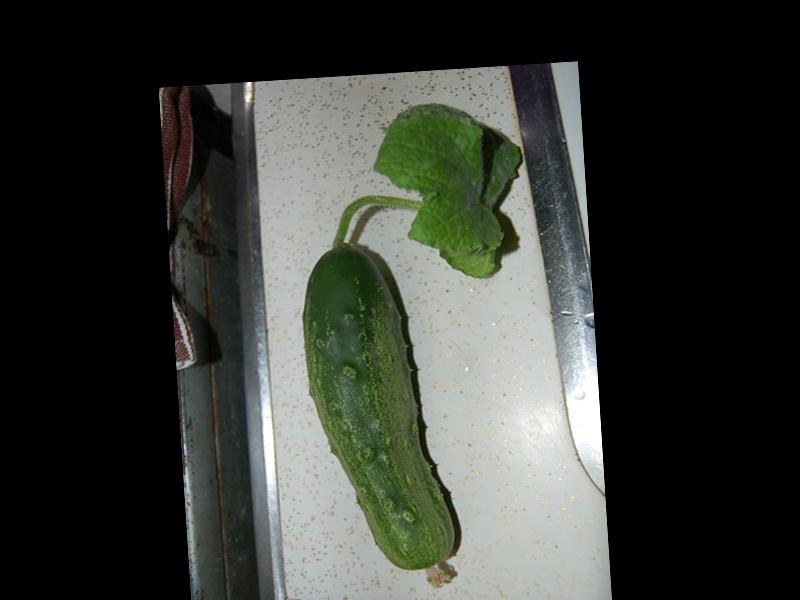Cucumber: (297, 236, 460, 595)
